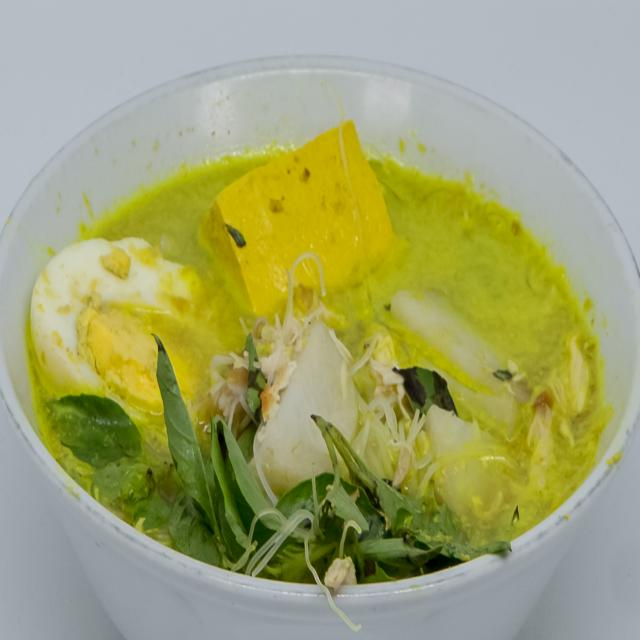Laksa-Bogor: (16, 92, 619, 608)
